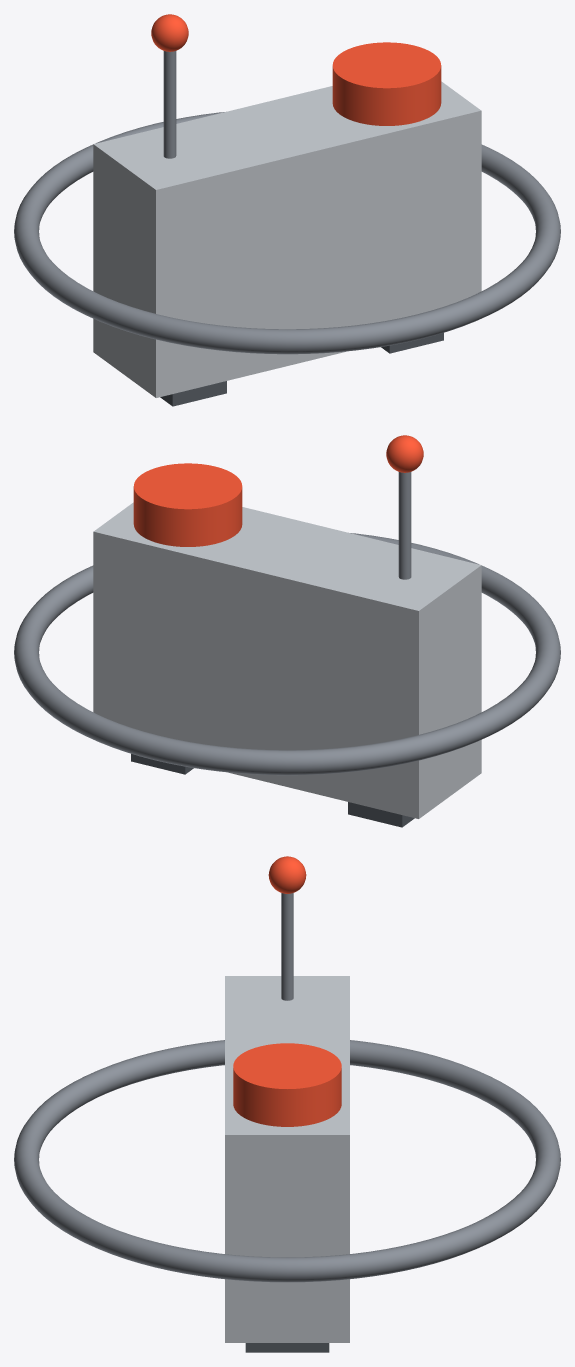
The model's file is machine-draco.glb.
The picture shows the model from 3 angles, top to bottom: view 1: azimuth 30°, elevation 25°; view 2: azimuth 150°, elevation 25°; view 3: azimuth 270°, elevation 25°; orthographic projection.
Parts seen in each view (by area): view 1: body, ring, dial, mast, tip, footL; view 2: body, ring, dial, mast, tip, footL; view 3: body, ring, dial, mast, tip, footR.
Boxes of the visible parts, x1,y1,x2,y2 form: body: [93, 81, 481, 397]; ring: [14, 112, 560, 354]; dial: [332, 42, 441, 125]; mast: [163, 51, 176, 158]; tip: [151, 14, 188, 51]; footL: [160, 381, 226, 406]; body: [93, 502, 481, 818]; ring: [14, 533, 560, 775]; dial: [133, 463, 242, 546]; mast: [398, 472, 411, 579]; tip: [386, 435, 423, 472]; footL: [348, 802, 414, 827]; body: [225, 976, 349, 1342]; ring: [14, 1040, 560, 1282]; dial: [233, 1043, 341, 1126]; mast: [281, 893, 293, 1000]; tip: [268, 856, 306, 893]; footR: [245, 1343, 329, 1352].
Size of the model in its own units: 2.62 by 1.96 by 2.62.
Materials: 3 (3 with a texture image).
